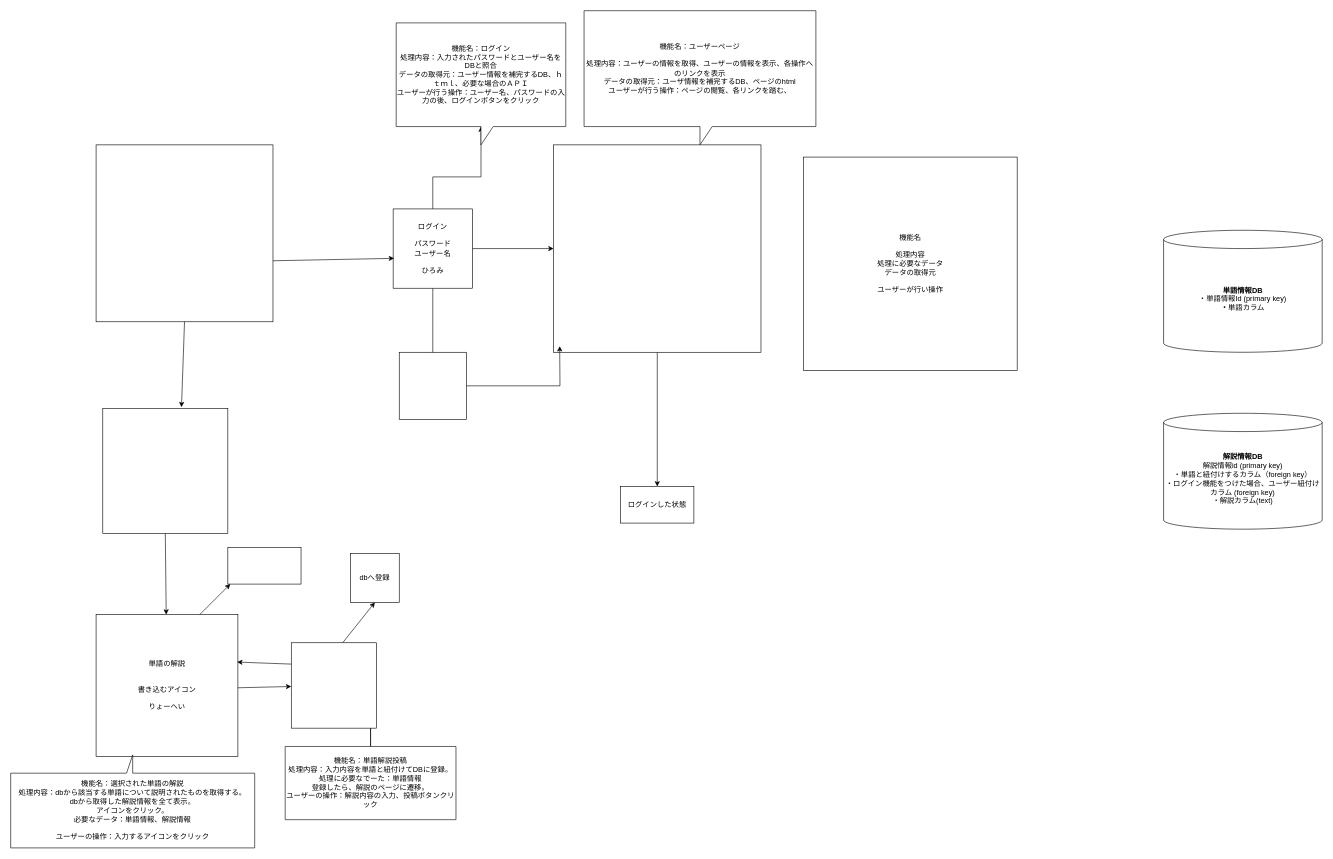
Image size: 1333x859. Some labels were removed from this diagram. Each missing label, with the box of its shape:
dbへ検索: (227, 547, 301, 584)
ホーム画面 検索窓 単語がずらり ひらまつ: (95, 144, 273, 322)
ユーザーページ ユーザー名 過去の投稿一覧 ログアウト s: (553, 144, 761, 352)
単語 解説 解説 解説 ひらまつ: (102, 408, 228, 533)
登録画面 名前 パスワード e-mail twitter,google API: (399, 352, 466, 419)
解説 投稿 りょーへい: (291, 642, 377, 728)
